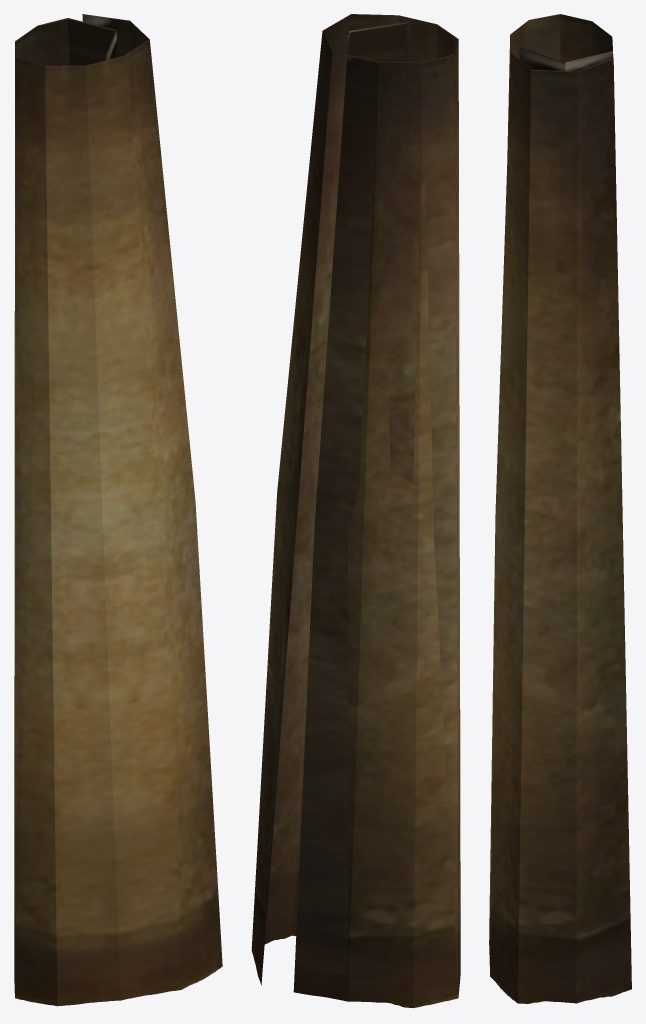
Rendered from juqing_fuben_544_ditu_01b.obj.
3 renders of one model, left to right at view 1: azimuth 30°, elevation 25°; view 2: azimuth 150°, elevation 25°; view 3: azimuth 270°, elevation 25°, orthographic. The views are drawn at different scales.
Visible parts, largest first — view 1: juqing_fuben_544_ditu_01; view 2: juqing_fuben_544_ditu_01; view 3: juqing_fuben_544_ditu_01.
Part boxes in pixels (<box>): juqing_fuben_544_ditu_01: <box>14,14,222,1006</box>; juqing_fuben_544_ditu_01: <box>251,14,460,1008</box>; juqing_fuben_544_ditu_01: <box>489,14,631,1003</box>.
Size of the model in its own units: 107 by 487 by 69.74.
1 material, 1 textured.
